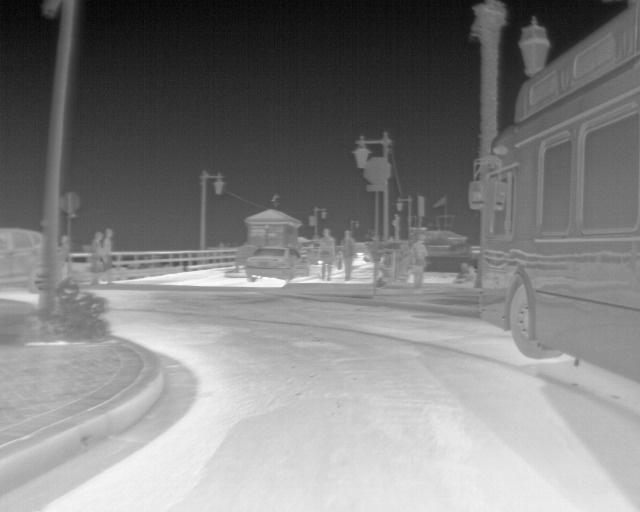bicycle: (0, 227, 46, 292), (243, 248, 306, 281)
empty: (315, 228, 336, 281), (337, 227, 357, 279), (411, 232, 428, 287), (101, 228, 115, 284), (58, 232, 75, 278), (89, 233, 104, 284), (453, 261, 468, 281)
